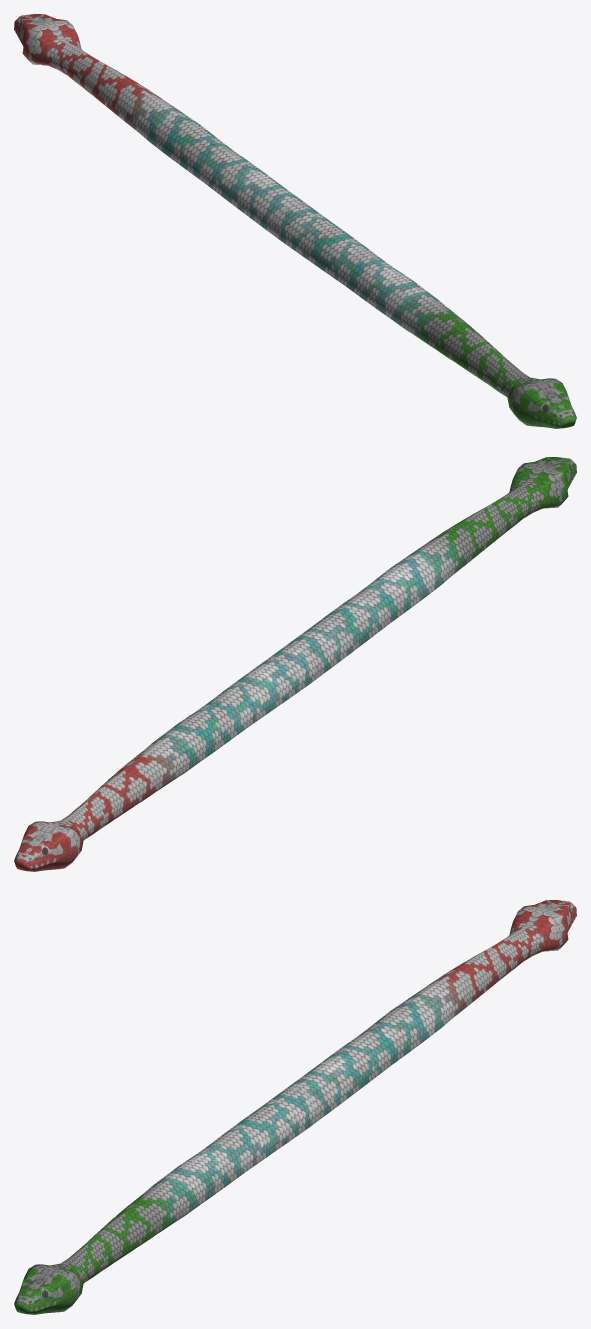
The model's file is 174-maquizcoatl.glb.
3 views of the same model, one above another, from view 1: azimuth 30°, elevation 25°; view 2: azimuth 150°, elevation 25°; view 3: azimuth 330°, elevation 25° (orthographic).
Bounding box in the file's own units: 0.3812 × 0.2822 × 7.32.
1 material, 1 textured.
